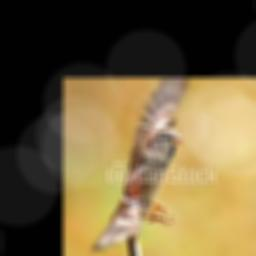Sparrow: (90, 77, 189, 256)
